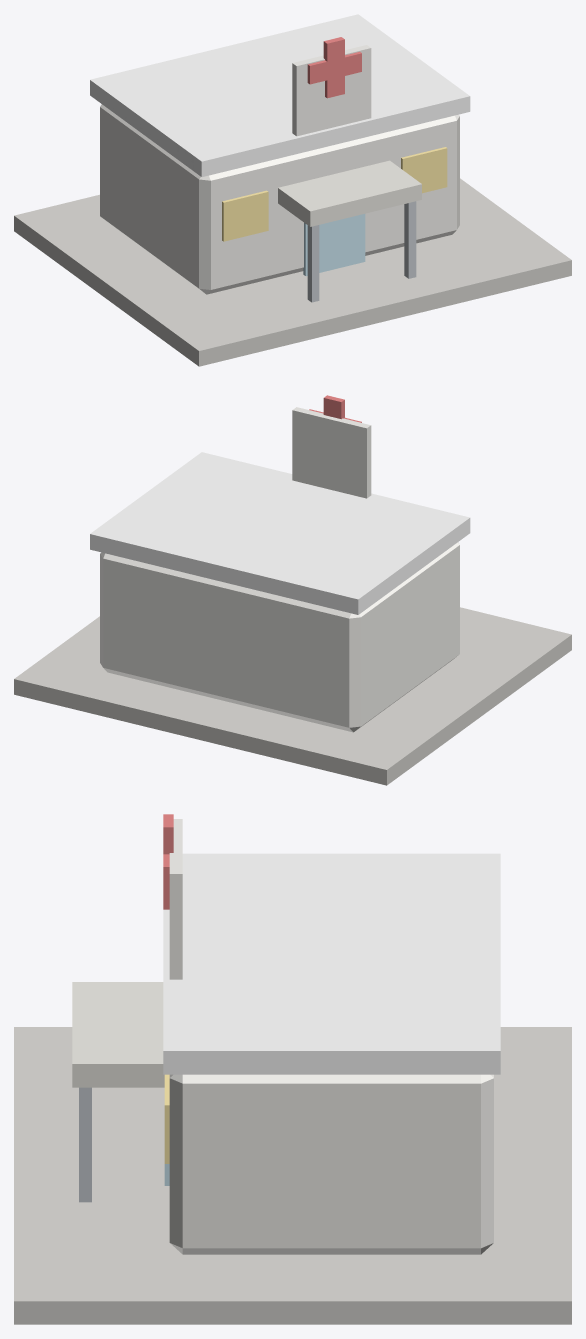
The model's file is hospital_2.glb.
The picture shows the model from 3 angles, top to bottom: view 1: azimuth 30°, elevation 25°; view 2: azimuth 150°, elevation 25°; view 3: azimuth 270°, elevation 25°; orthographic projection. The views are drawn at different scales.
Parts seen in each view (by area): view 1: main; view 2: main; view 3: main.
Part boxes in pixels (bbox=[...]): main: bbox=[14, 14, 571, 366]; main: bbox=[14, 395, 571, 785]; main: bbox=[14, 814, 571, 1324].
Bounding box in the file's own units: 1 × 0.6238 × 0.86.
